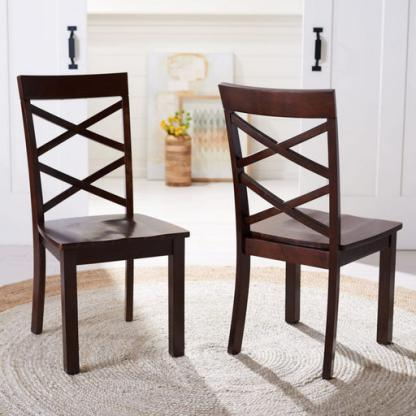chair: (215, 59, 406, 384), (15, 59, 188, 379)
door: (298, 2, 416, 252), (0, 0, 87, 247)
